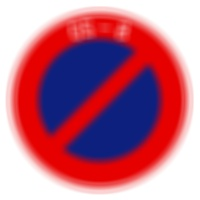Prohibition_sign: (7, 4, 193, 192)
